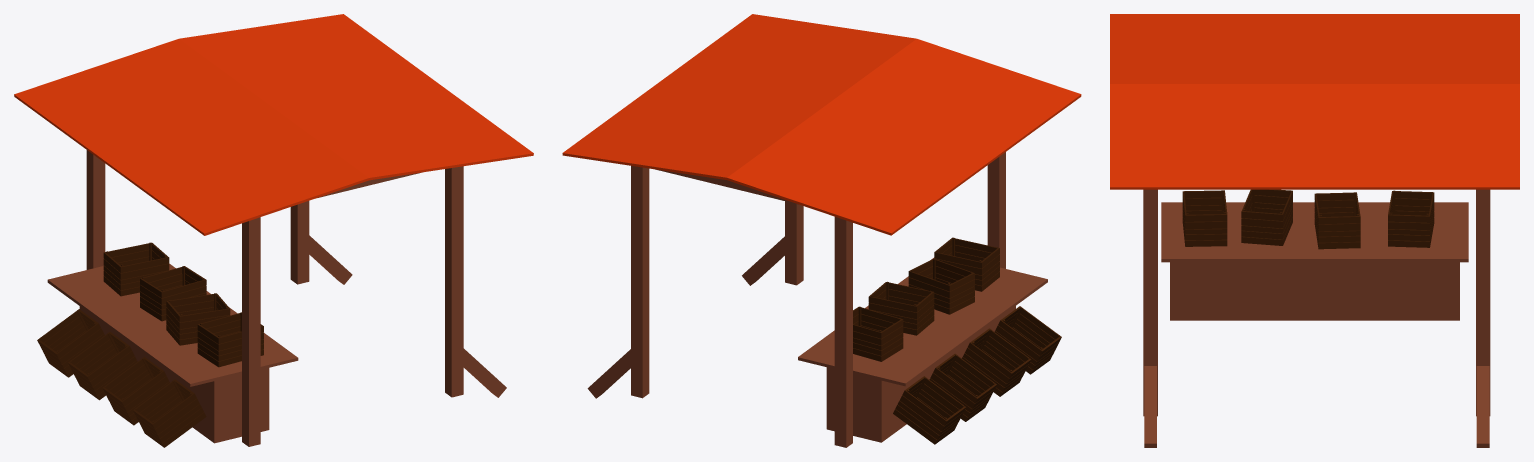
File: Centrum.fbx
3 renders of one model, left to right at view 1: azimuth 30°, elevation 25°; view 2: azimuth 150°, elevation 25°; view 3: azimuth 270°, elevation 25°, orthographic. The views are drawn at different scales.
Parts seen in each view (by area): view 1: Kram; view 2: Kram; view 3: Kram.
Boxes of the visible parts, x1=… form: Kram: x1=14, y1=14, x2=533, y2=447; Kram: x1=562, y1=14, x2=1081, y2=447; Kram: x1=1110, y1=14, x2=1519, y2=447.
Bounding box in the file's own units: 148 × 110 × 141.
